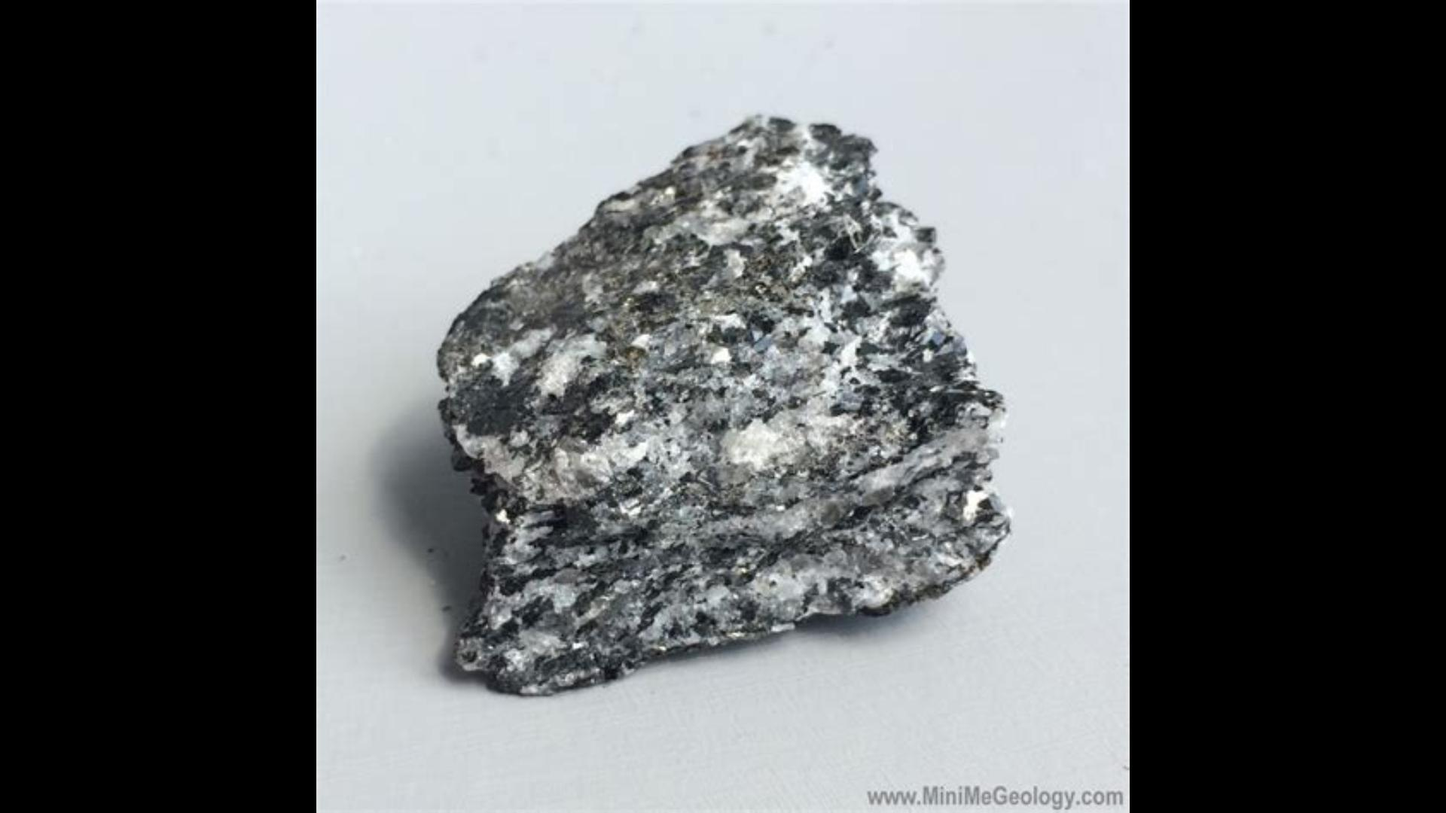rock: (438, 118, 1008, 690)
